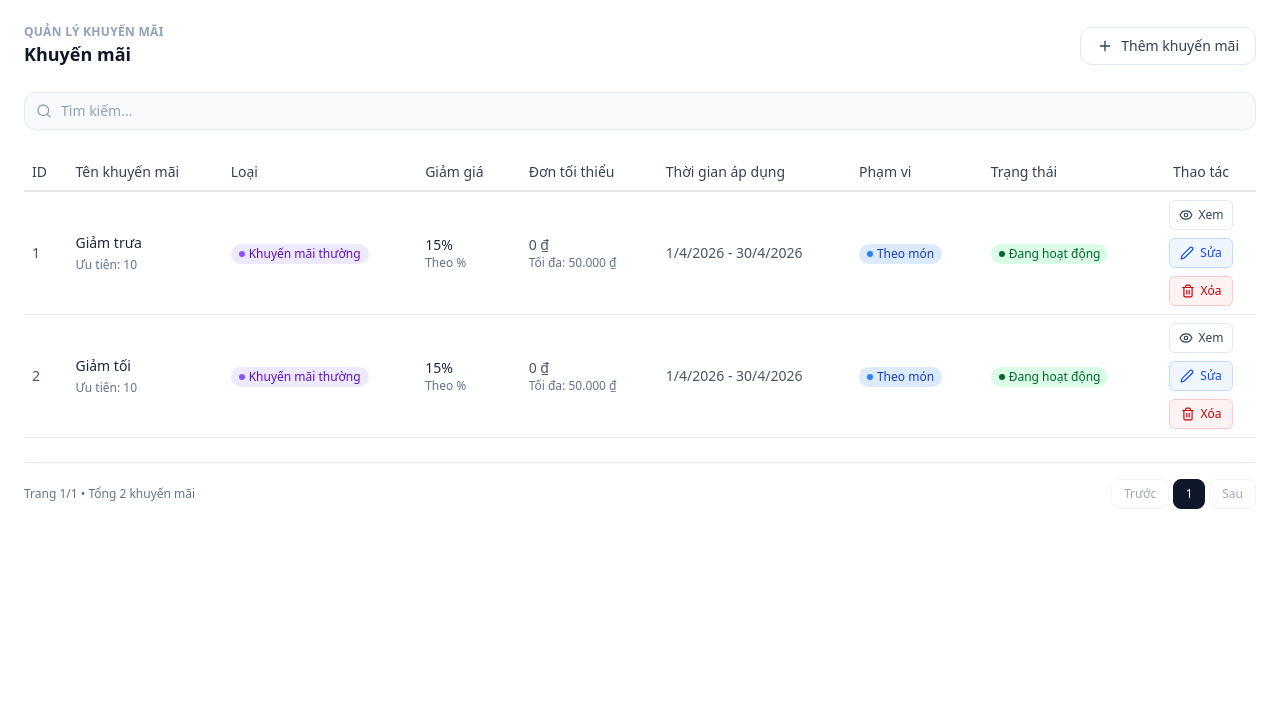
Test: Integration: Tenant Promotion Page Flow › filters promotions by search keyword
Expected: the text "Giảm trưa" is shown, [75,233,142,252]
Expected: the text "Giảm tối" is shown, [75,356,131,375]
In the field with placeholder "Tìm kiếm...": (640, 111) [24,92,1256,130], type "khong-ton-tai"
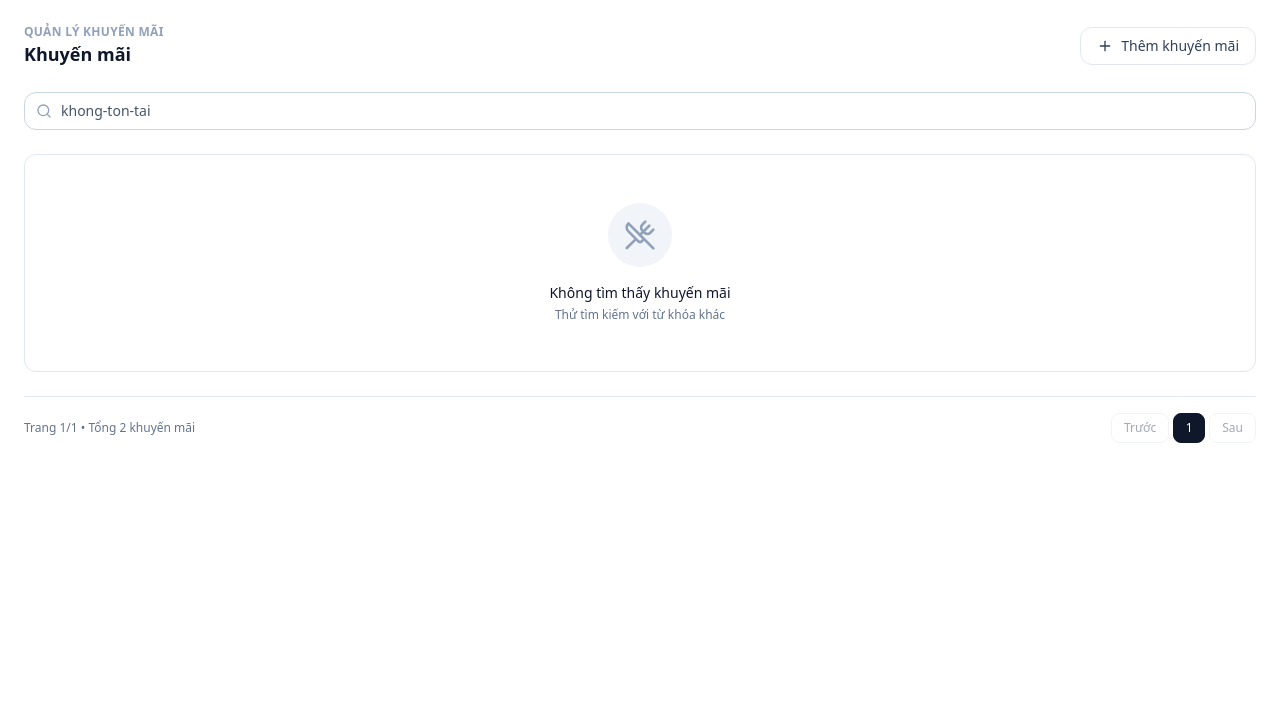
Result: the heading "Không tìm thấy khuyến mãi" is shown at [550,283,731,303]
Result: the text "Giảm trưa" is gone
Result: the text "Giảm tối" is gone
